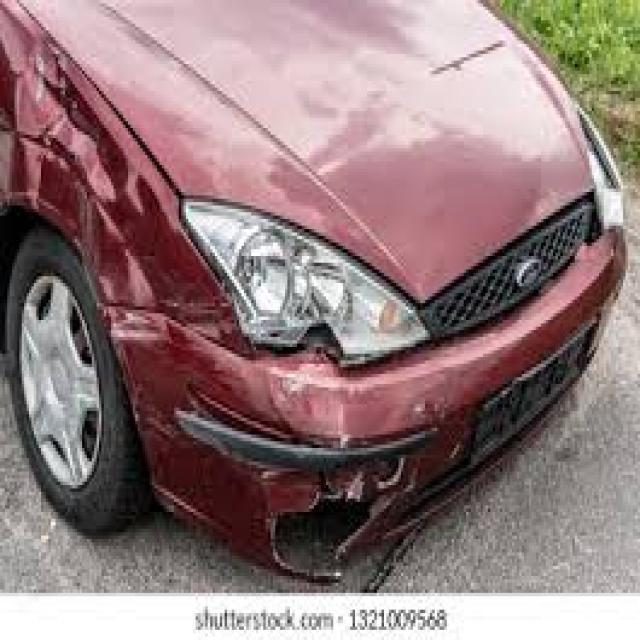damaged-front-bumper: (104, 302, 531, 576)
